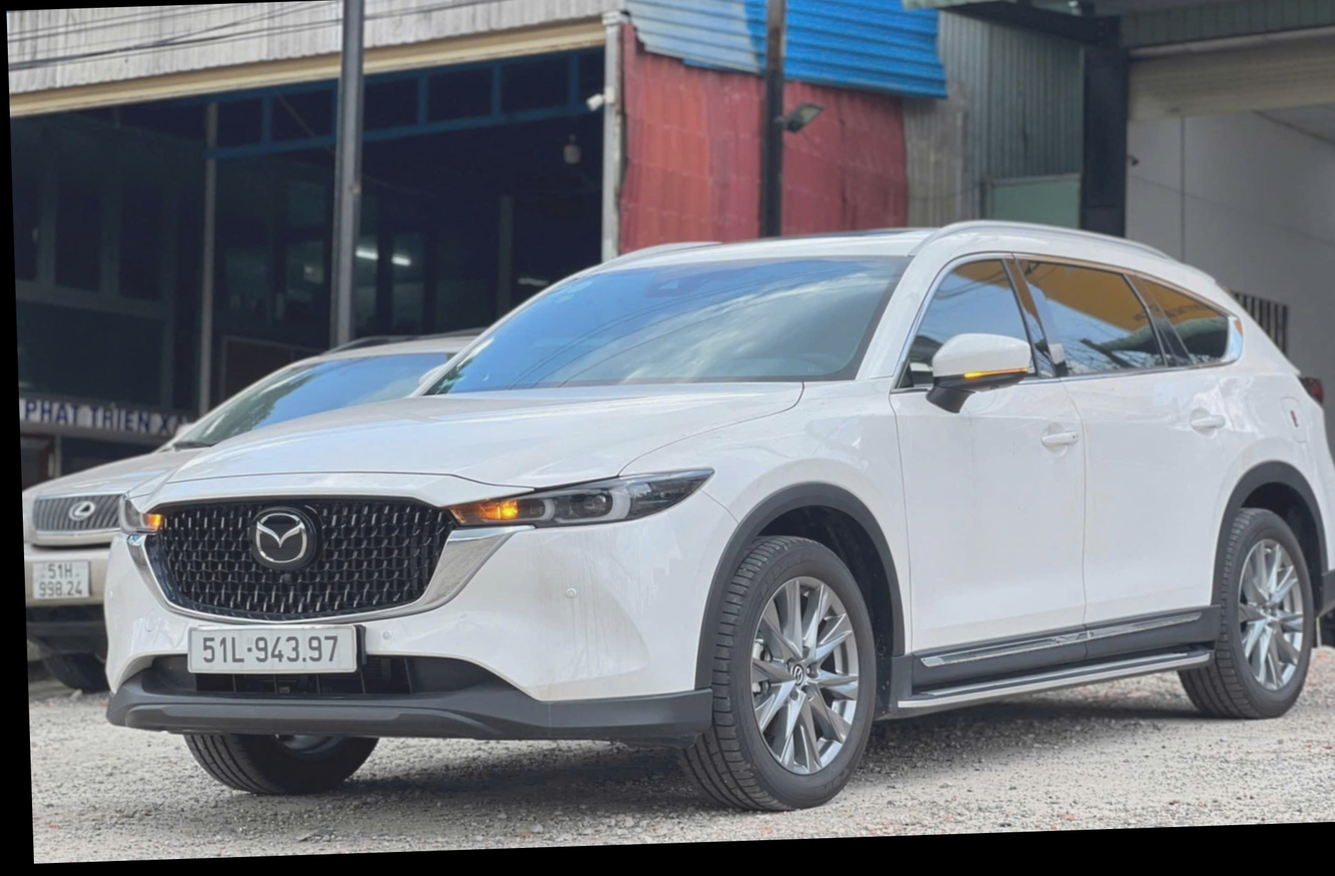Bien-so: (192, 617, 360, 676), (34, 559, 94, 602)
